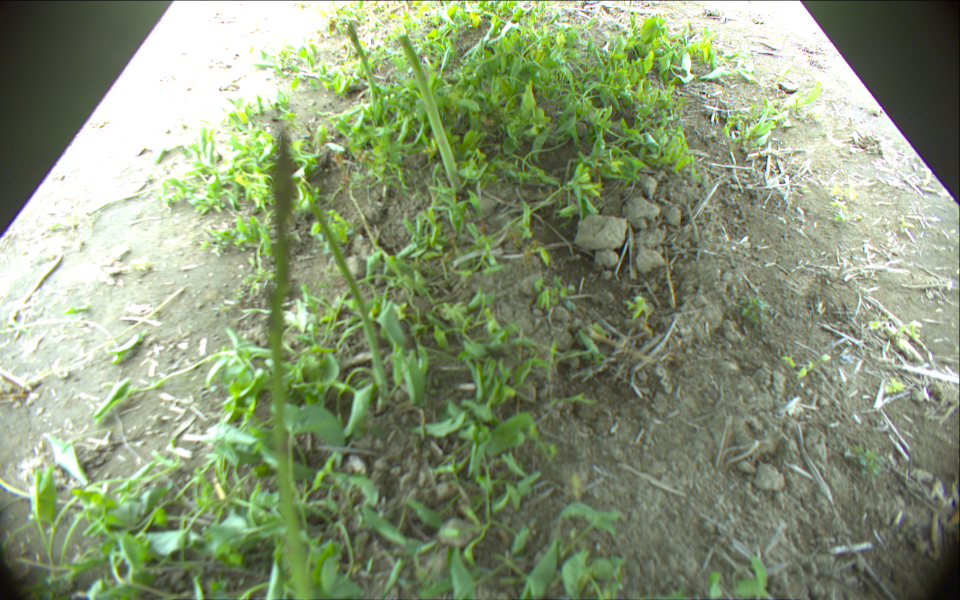aspa: (270, 133, 317, 600), (311, 190, 388, 398), (398, 35, 463, 193), (347, 21, 381, 109)
